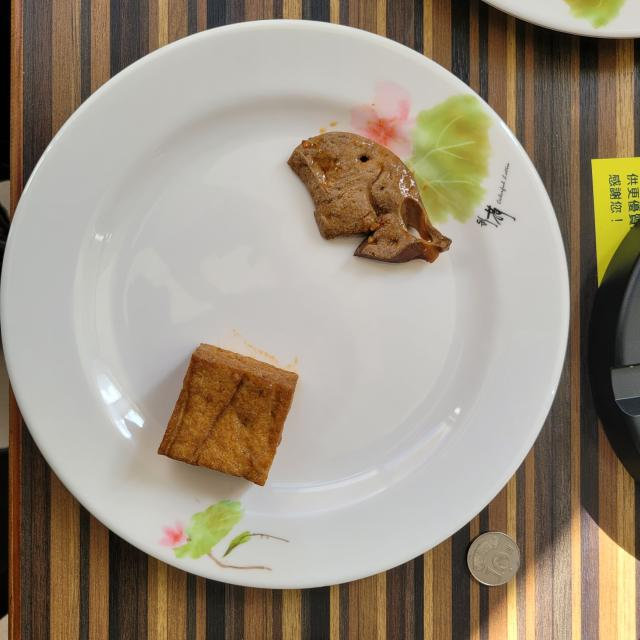coin: (468, 531, 520, 586)
egg tofu: (158, 344, 298, 485)
pig liver: (288, 131, 451, 262)
